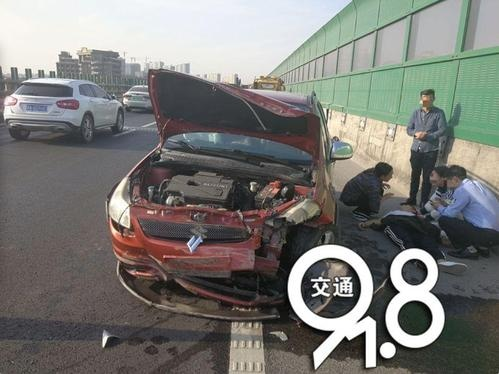falling: (354, 201, 475, 278)
